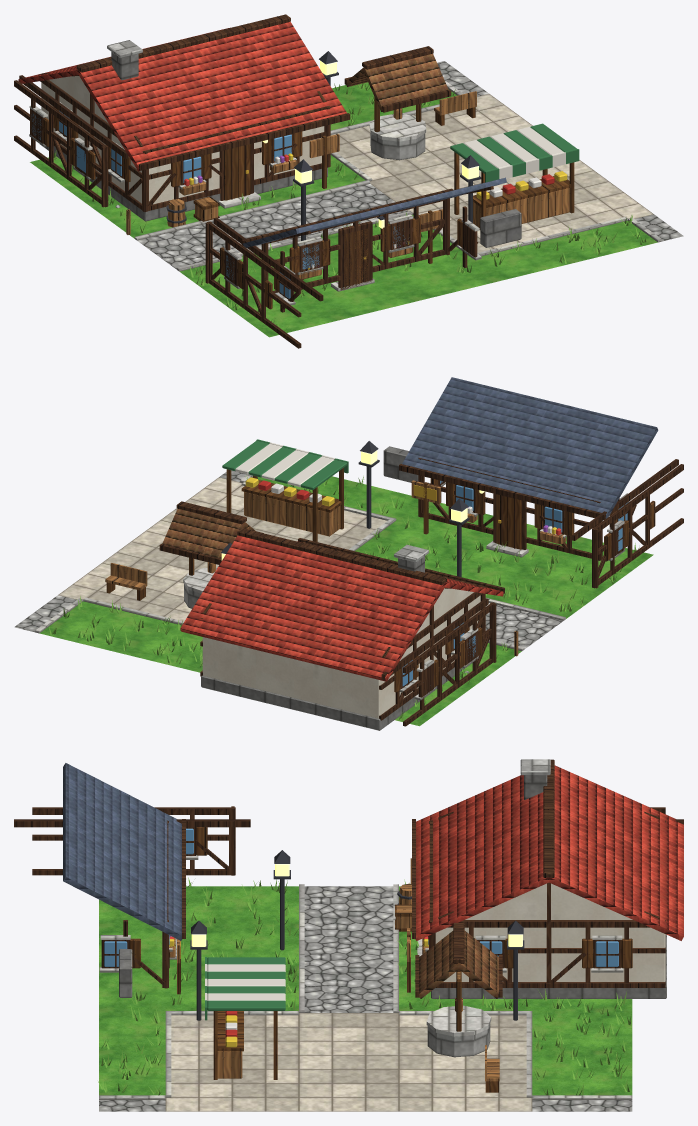
File: chunk_5_5.glb
3 renders of one model, top to bottom at view 1: azimuth 30°, elevation 25°; view 2: azimuth 150°, elevation 25°; view 3: azimuth 270°, elevation 25°, orthographic. The views are drawn at different scales.
Parts seen in each view (by area): view 1: chunk_5_5; view 2: chunk_5_5; view 3: chunk_5_5.
Part boxes in pixels (<box>): chunk_5_5: <box>14,14,683,348</box>; chunk_5_5: <box>14,377,683,730</box>; chunk_5_5: <box>14,759,683,1111</box>.
Bounding box in the file's own units: 16.11 × 4.98 × 20.1.
Materials: 26 (14 with a texture image).
